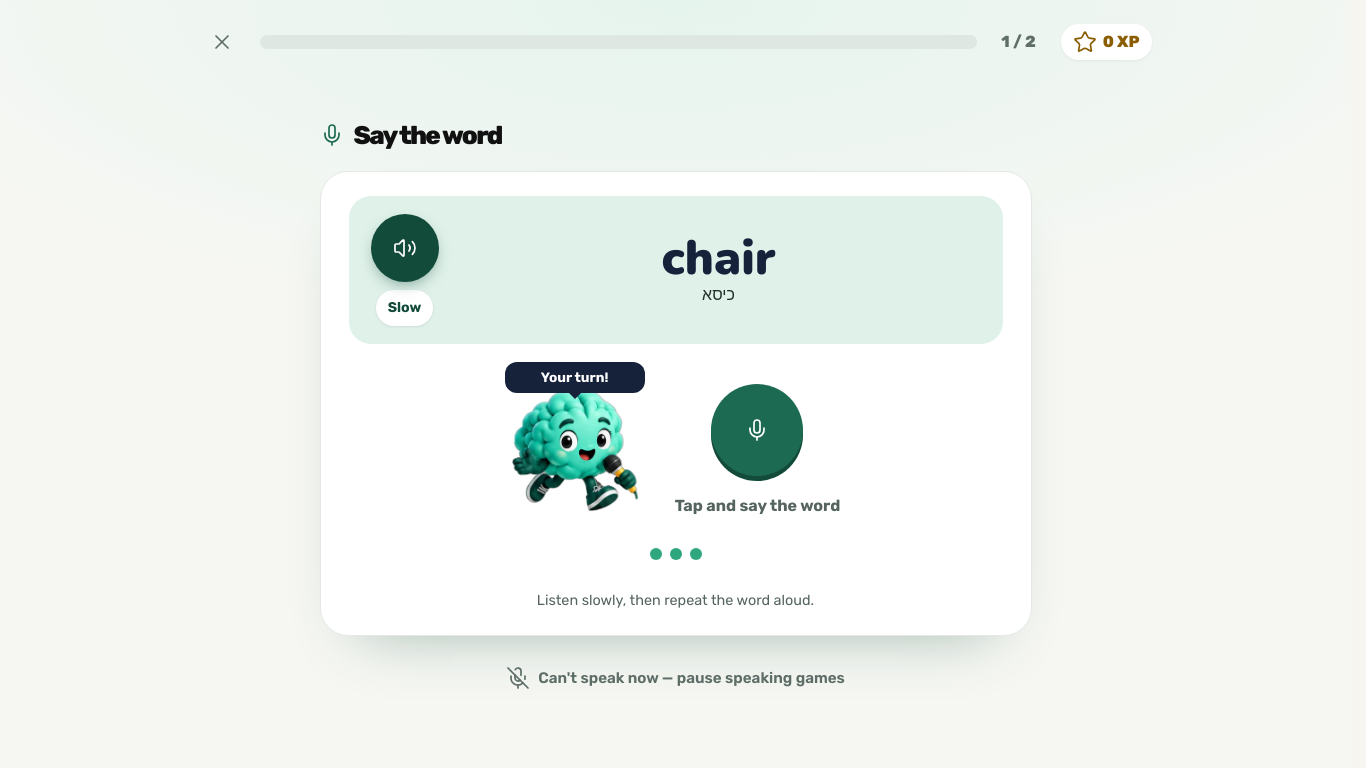
DEV focus game engine › ends the speaking stage without a fabricated score and pauses new speech games
Click the button "Can't speak now — pause speaking games" at x=675, y=678, box [496,656,855,700]
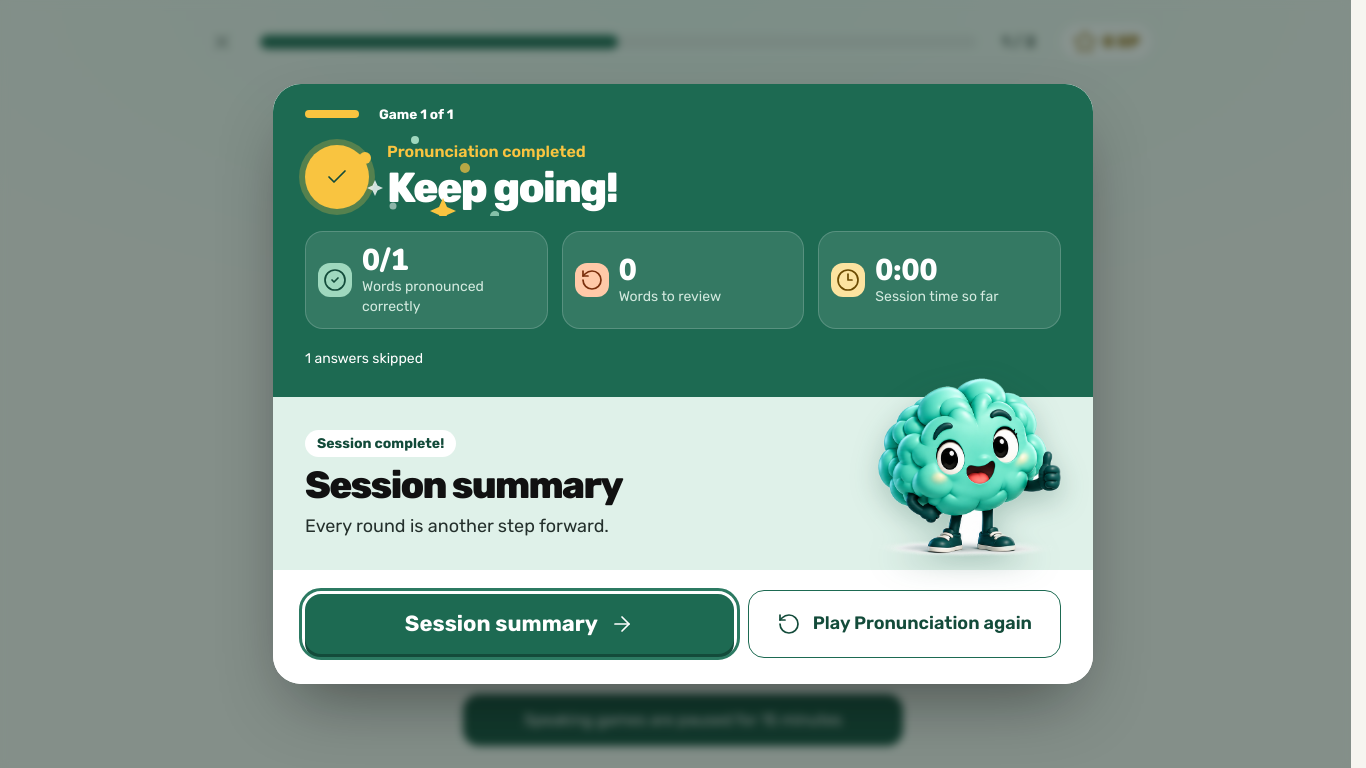
Expected: the dialog "Pronunciation completed" is shown, [273,84,1093,684]
Expected: the text "Speaking games are paused for 15 minutes" is shown, [463,694,903,746]
